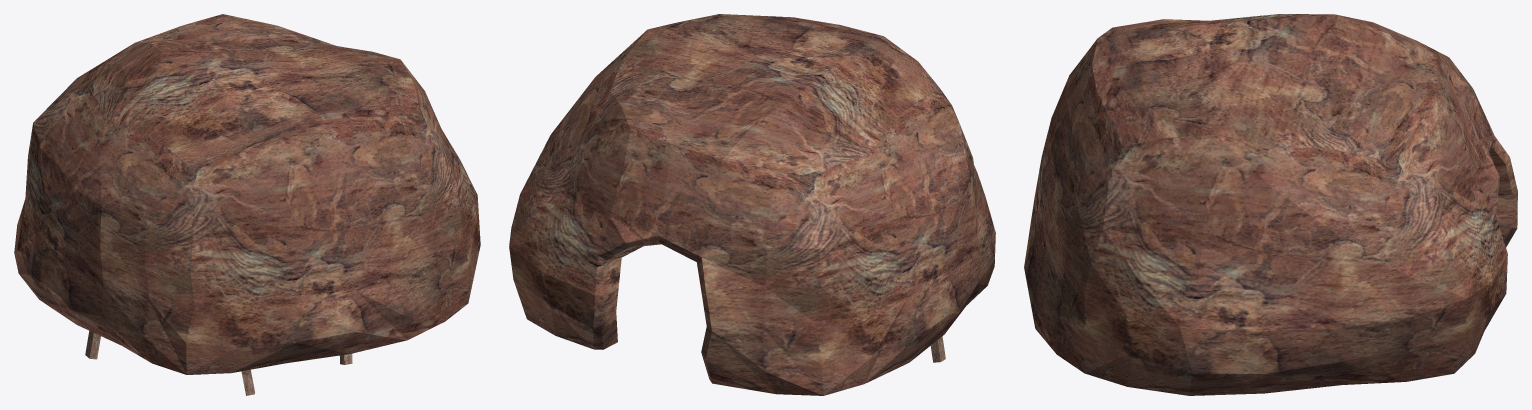
The model's file is thm_dath_night_sister_tent_house_s01_l1.fbx.
3 renders of one model, left to right at view 1: azimuth 30°, elevation 25°; view 2: azimuth 150°, elevation 25°; view 3: azimuth 270°, elevation 25°, orthographic. The views are drawn at different scales.
Visible parts, largest first — view 1: mesh_node; view 2: mesh_node; view 3: mesh_node.
Part boxes in pixels (<box>): mesh_node: <box>14,14,480,395</box>; mesh_node: <box>509,14,995,395</box>; mesh_node: <box>1024,14,1517,395</box>.
Size of the model in its own units: 10.2 by 6.47 by 10.07.
